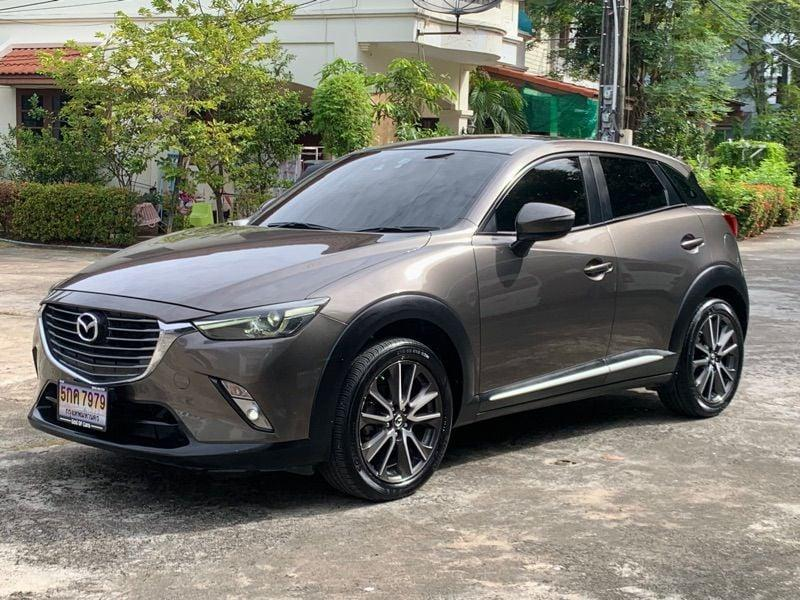license-plate: (53, 376, 114, 435)
